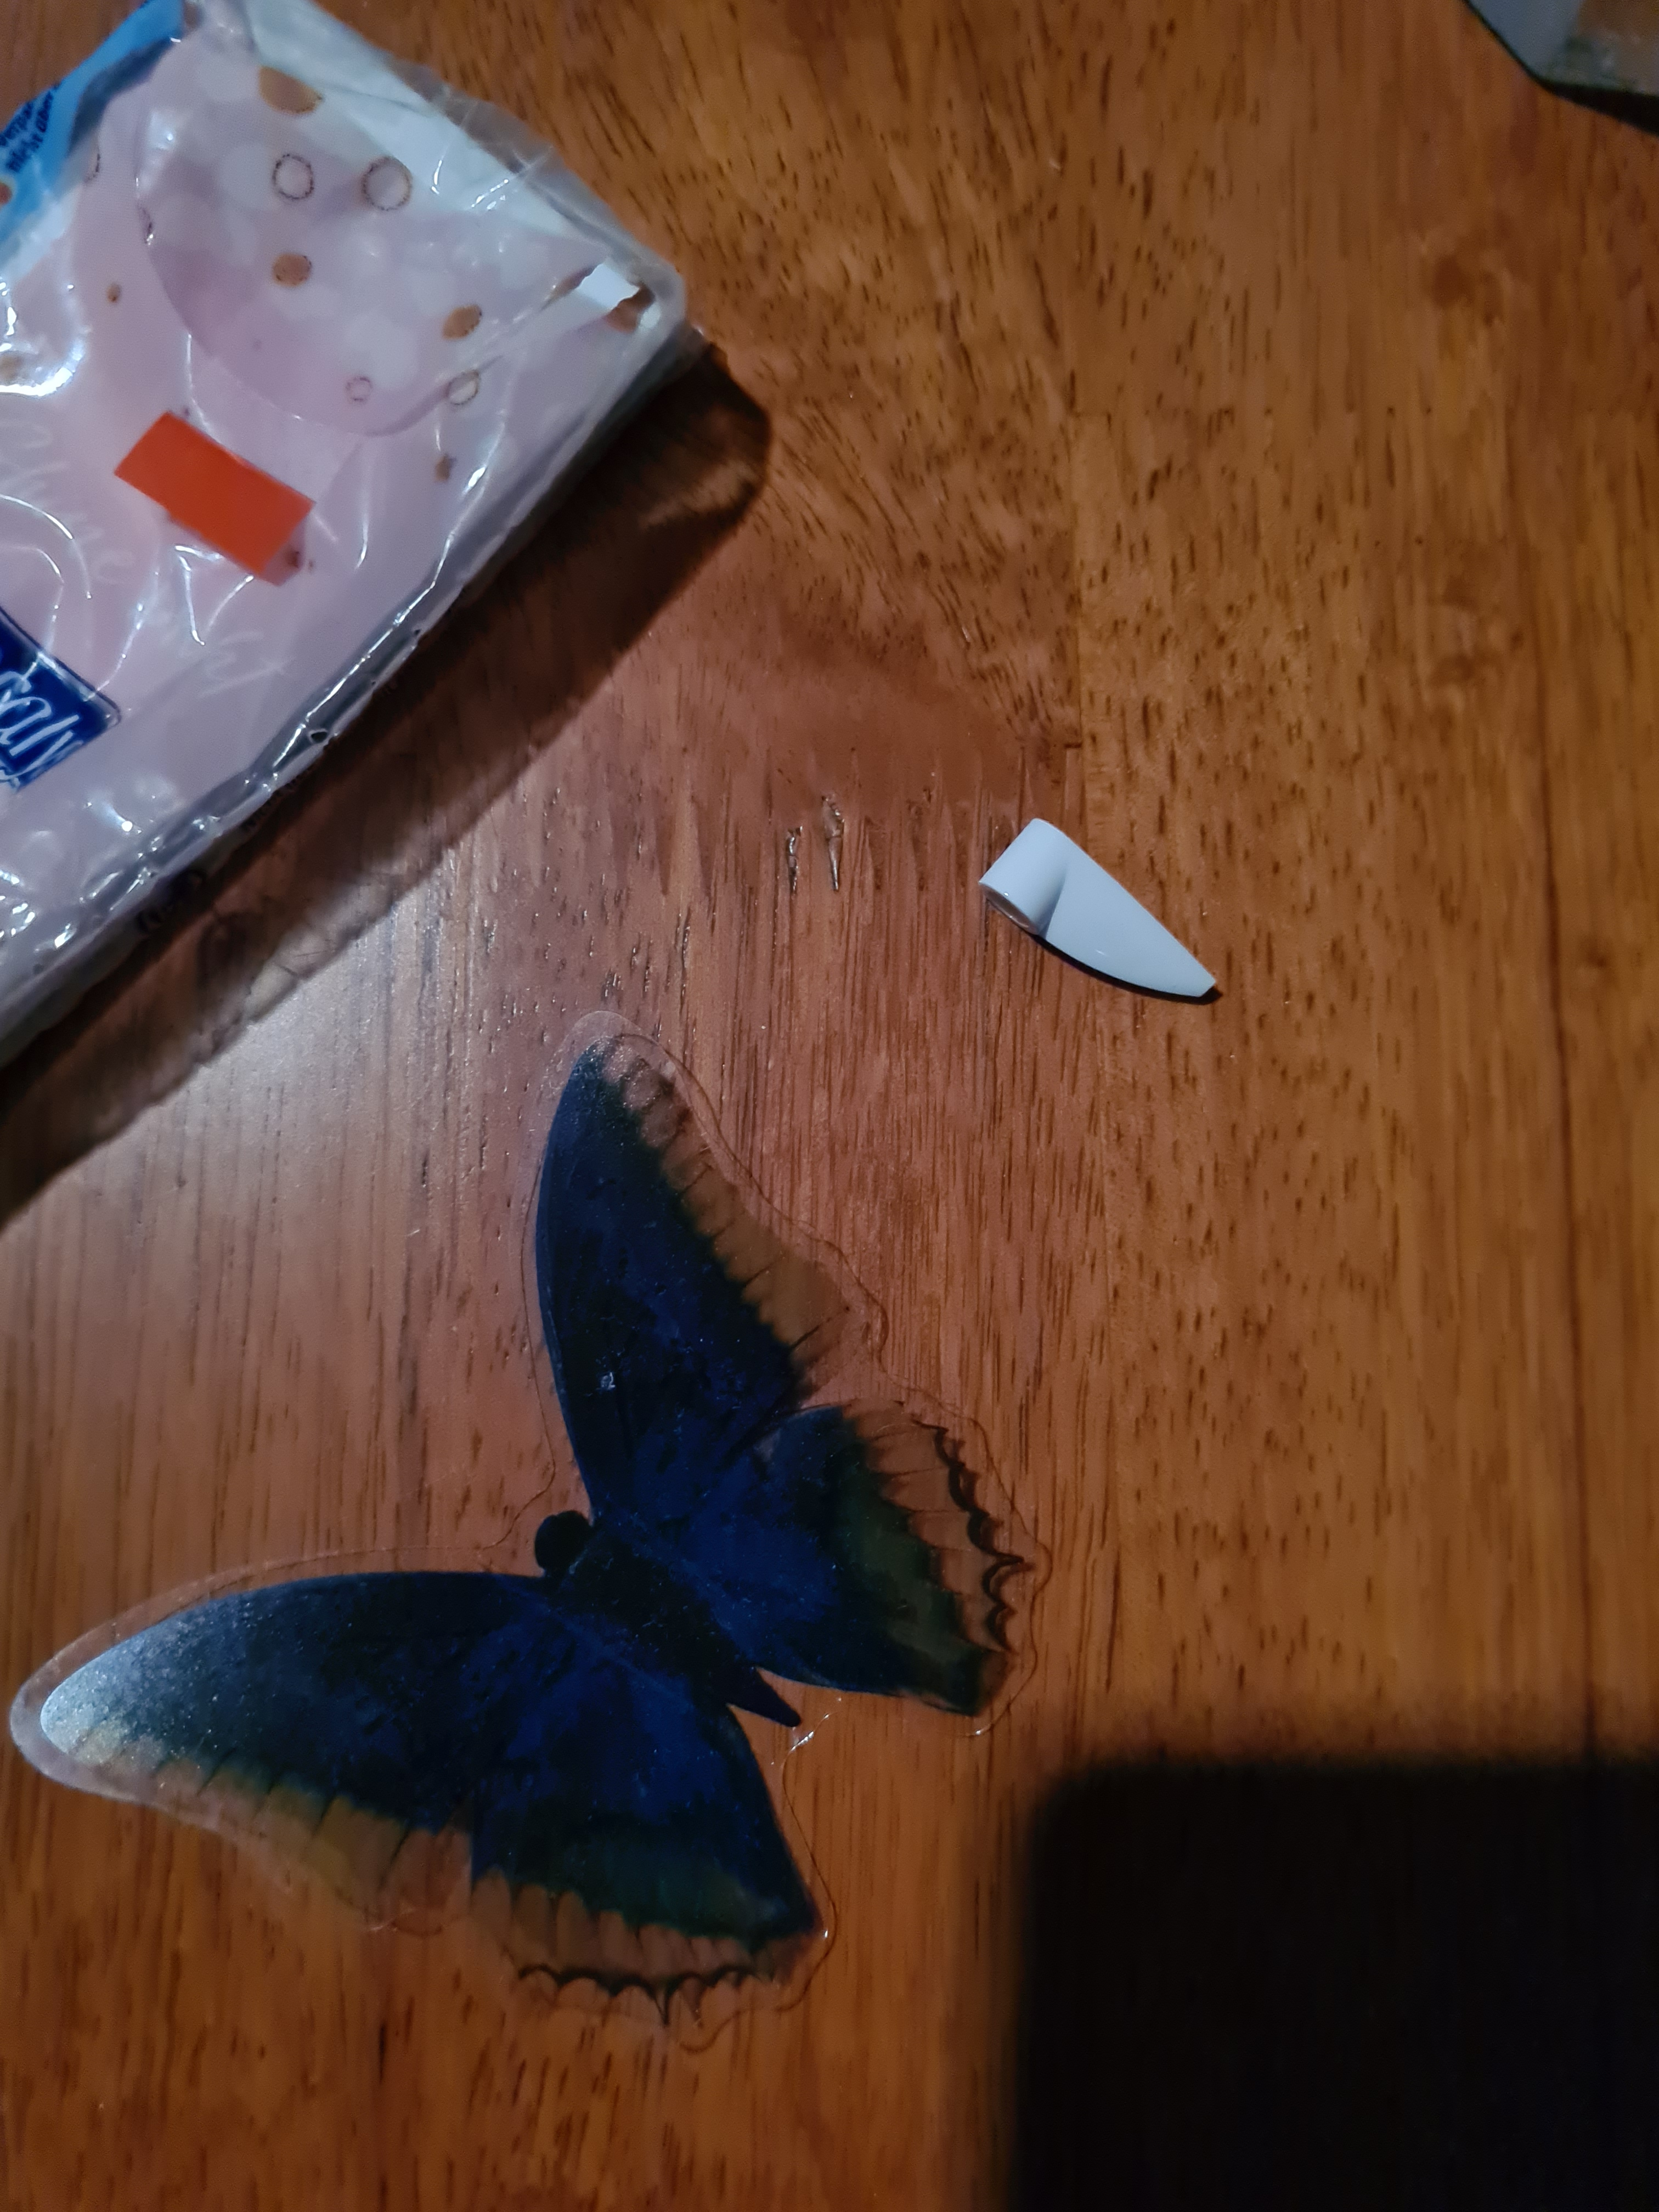Kappe: (964, 756, 1244, 1049)
